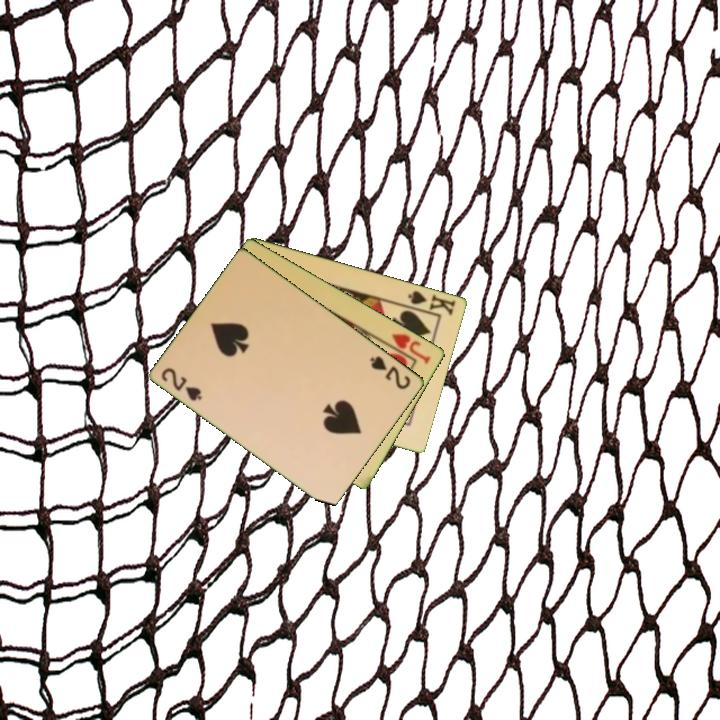2s: (366, 352, 414, 392), (158, 364, 206, 404)
Jh: (380, 330, 434, 367)
Ks: (402, 287, 459, 318)
